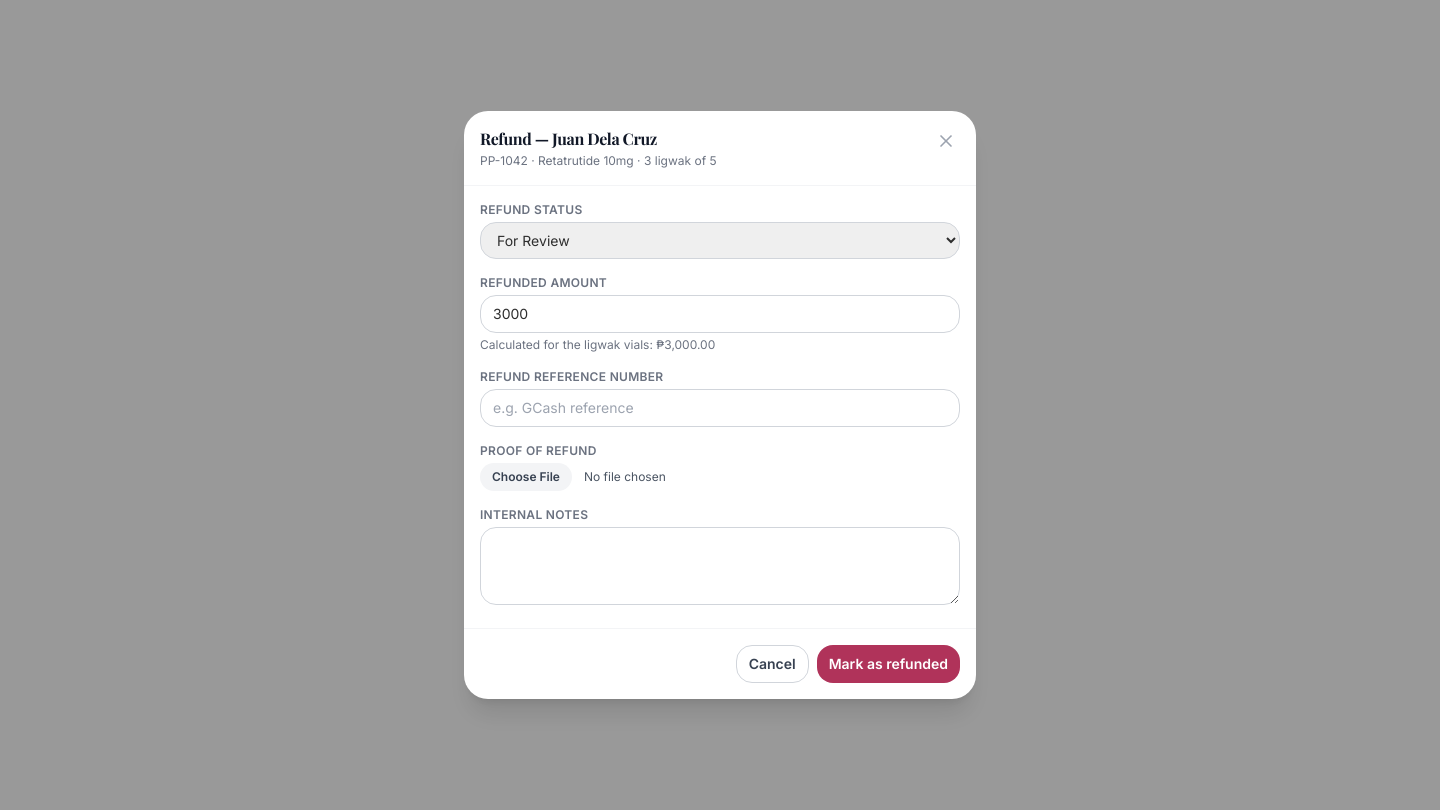
Test: LigwakRefundModal › refuses to refund more than the calculated amount without an override
Replace the text in the number field labelled "Refunded amount" with "9999" at (720, 314), box [480,295,960,333]
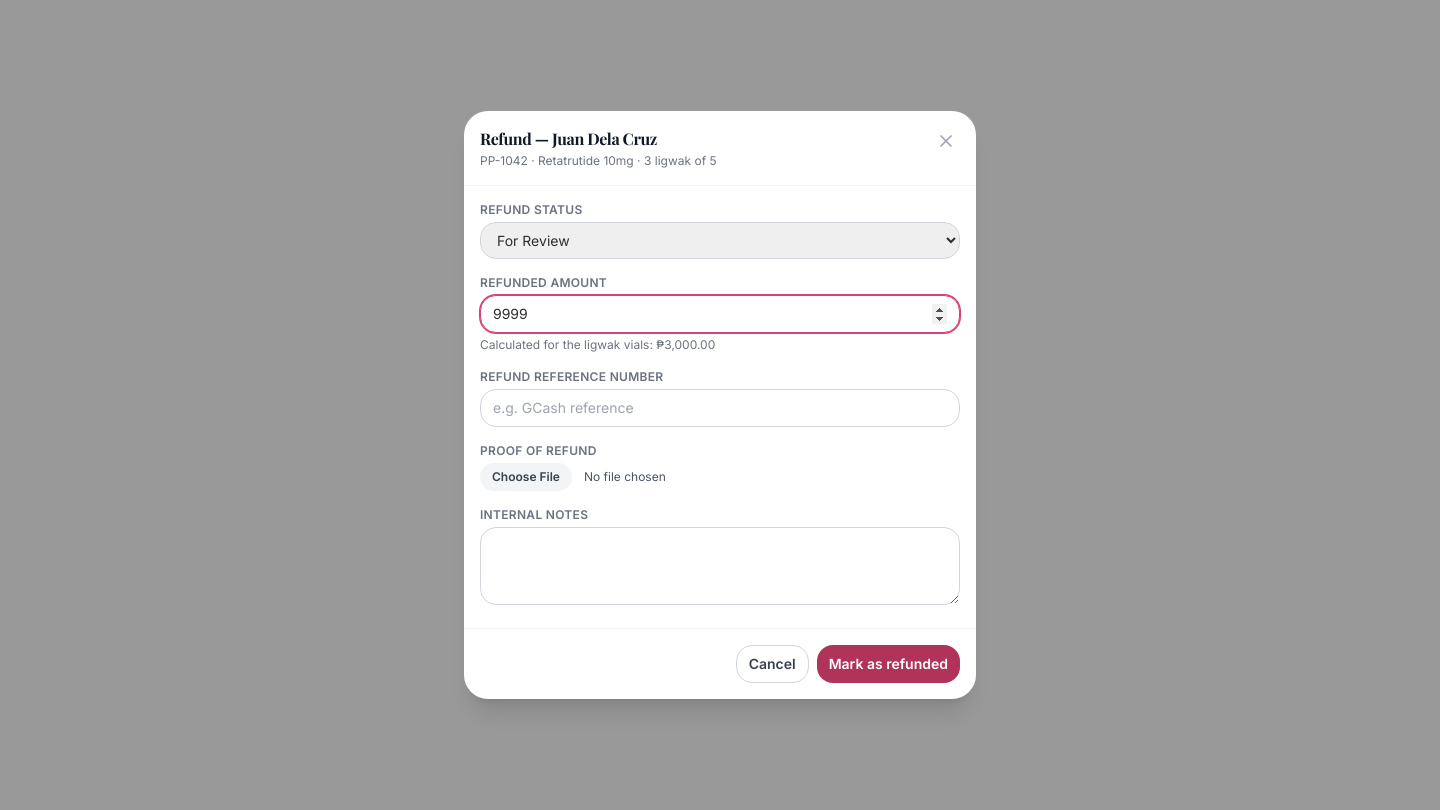
Click the button "Mark as refunded" at (888, 664), box [817,645,960,683]
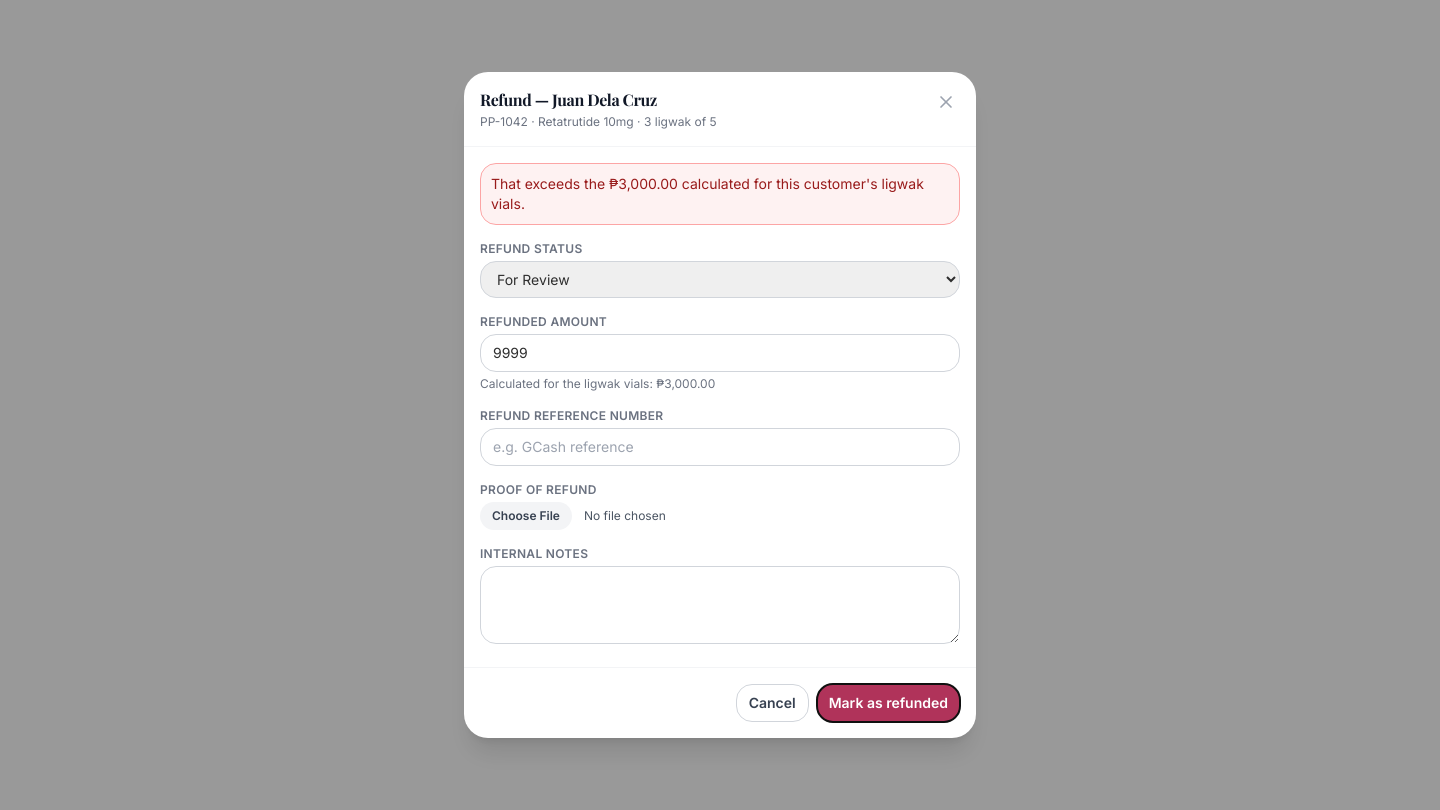
Expected: the message shows "exceeds", [491,175,924,212]
